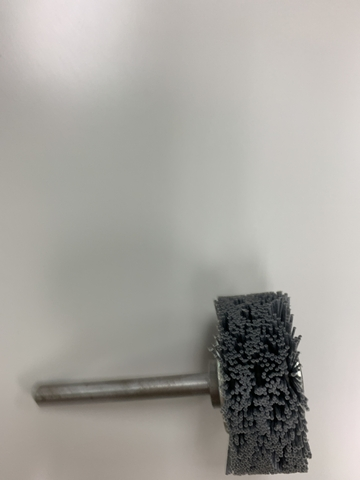Wheel Brush: (23, 289, 324, 480), (126, 285, 316, 480)
